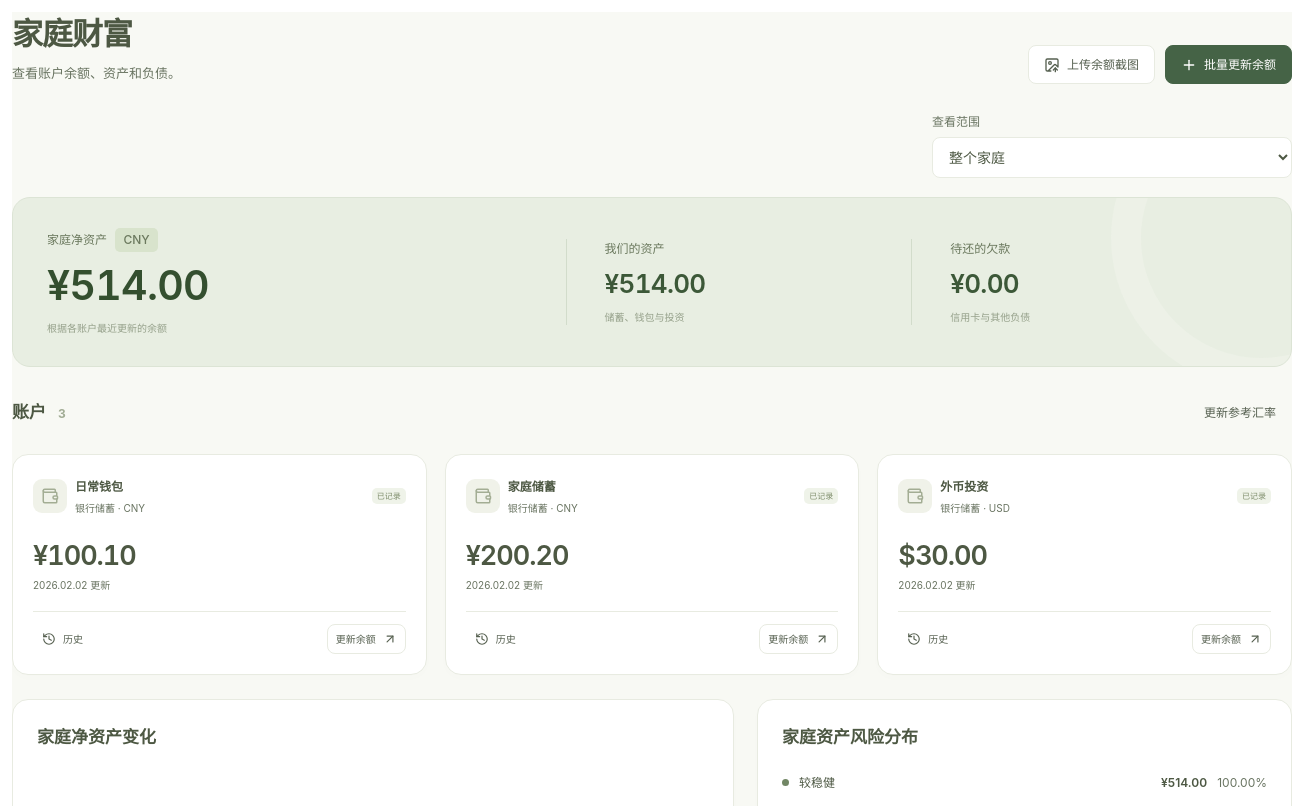
it: keeps balance gaps explicit and displays known subtotals rather than a complete total
This screenshot has width=1304, height=806.
Expected: the text "家庭净资产" is shown, [47,232,107,247]
Step 1. Select "未分配账户" in the dropdown → (1112, 158), box [932,137,1292,178]
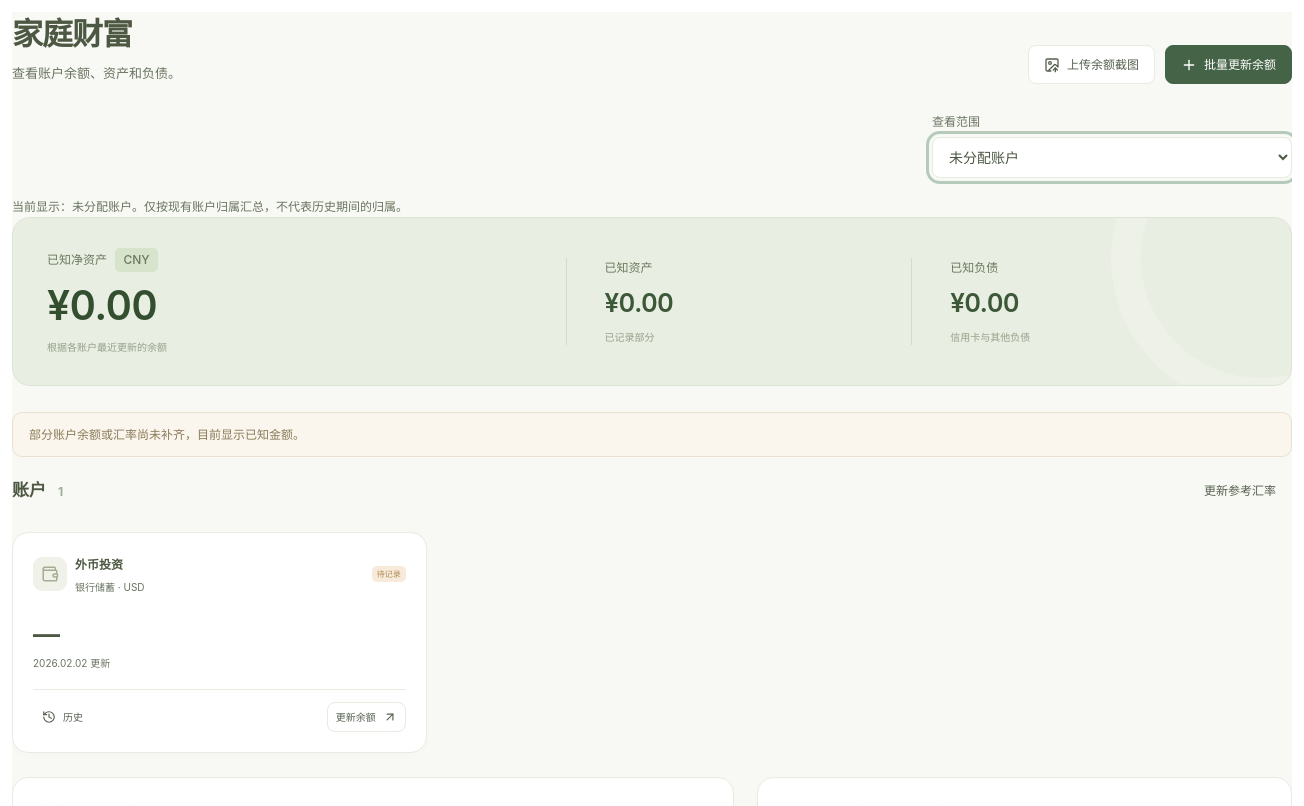
Result: the text "已知净资产" is shown at [47,252,107,267]
Result: the text "已知资产" is shown at [605,260,653,275]
Result: the text "已知负债" is shown at [950,260,998,275]
